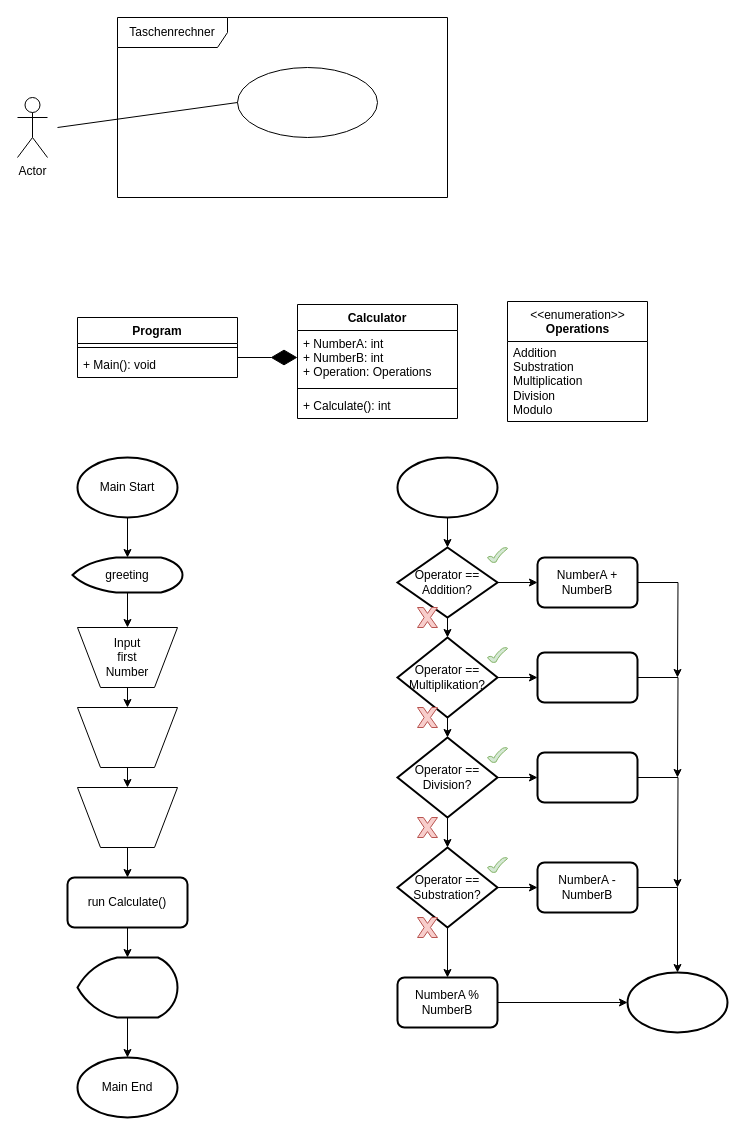
The diagram is 746 pixels wide and 1136 high, and some of its shapes have lost their labels. Each missing label, with the centre of its shape:
Aufgabe lösen: point (307, 102)
Calculate End: point (677, 1002)
Calculate Start: point (447, 487)
display result: point (127, 987)
Input operator: point (127, 737)
Input second Number: point (127, 817)
NumberA * NumberB: point (587, 677)
NumberA / NumberB: point (587, 777)
